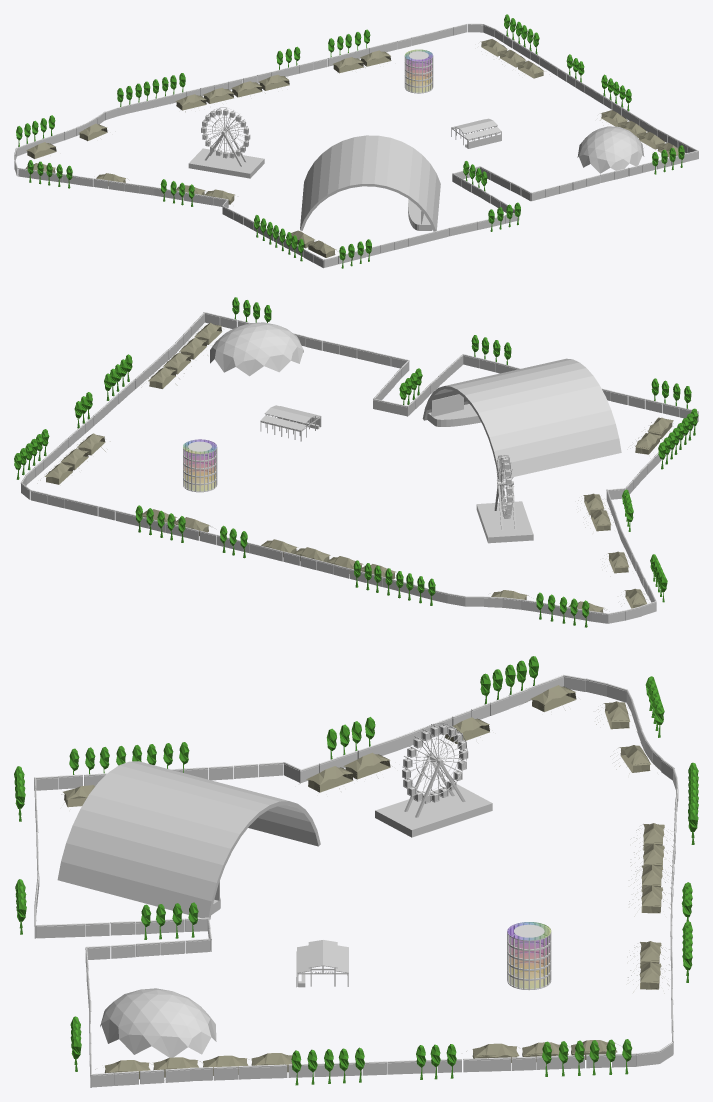
The picture shows the model from 3 angles, top to bottom: view 1: azimuth 30°, elevation 25°; view 2: azimuth 150°, elevation 25°; view 3: azimuth 270°, elevation 25°; orthographic projection. The views are drawn at different scales.
Visible parts, largest first — view 1: Cube.001, tree2.003, Icosphere, Cube.008, Cylinder, Circle, Roof, Cube.002; view 2: Cube.001, tree2.003, Icosphere, Cylinder, Cube.008, Roof, Cube.002, Cube.003; view 3: Cube.001, tree2.003, Icosphere, Cube.008, Cylinder, Roof, Circle, tent2, tent2.003, tent2.001.
Part boxes in pixels (box(x1,y1,x2,y2)): Cube.001: box(300, 135, 440, 231); tree2.003: box(16, 14, 684, 268); Icosphere: box(577, 126, 644, 173); Cube.008: box(188, 148, 264, 178); Cylinder: box(404, 49, 433, 93); Circle: box(202, 107, 247, 153); Roof: box(451, 118, 501, 139); Cube.002: box(408, 199, 432, 230); Cube.001: box(422, 358, 621, 479); tree2.003: box(14, 297, 698, 627); Icosphere: box(210, 322, 303, 376); Cylinder: box(183, 439, 217, 492); Cube.008: box(476, 501, 533, 543); Roof: box(260, 405, 320, 430); Cube.002: box(427, 404, 480, 426); Cube.003: box(431, 394, 463, 416); Cube.001: box(57, 761, 320, 919); tree2.003: box(14, 656, 698, 1085); Icosphere: box(100, 988, 216, 1057); Cube.008: box(375, 784, 492, 837); Cylinder: box(507, 922, 551, 990); Roof: box(297, 940, 348, 973); Circle: box(403, 723, 467, 795); tent2: box(300, 766, 353, 792); tent2.003: box(525, 685, 576, 711); tent2.001: box(342, 752, 392, 779).
Bounding box in the file's own units: 38.97 × 4.03 × 28.18.
4 materials, 1 textured.
